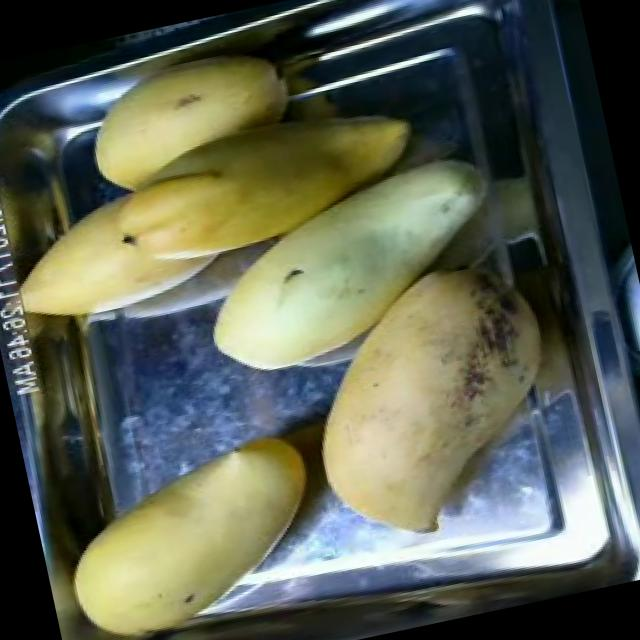fruit: (65, 28, 452, 312), (272, 235, 566, 561), (168, 147, 529, 403), (40, 425, 345, 640), (61, 23, 312, 203)
